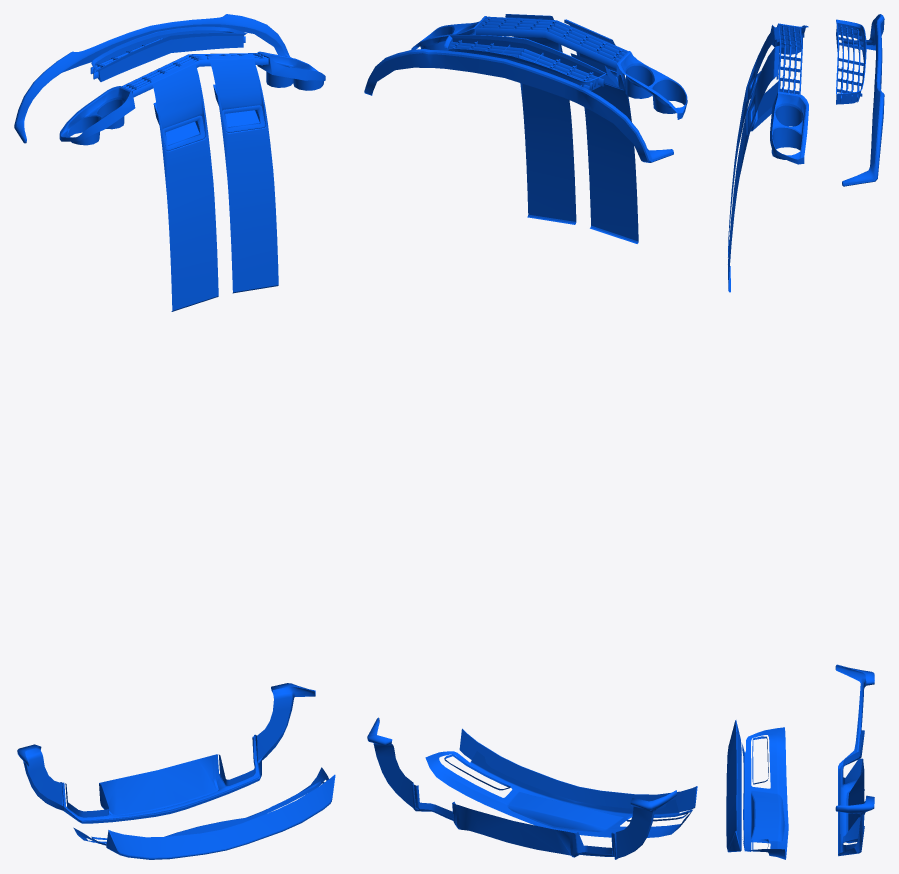
File: Mustang_Plastic_HD001.obj
The picture shows the model from 3 angles, left to right: view 1: azimuth 30°, elevation 25°; view 2: azimuth 150°, elevation 25°; view 3: azimuth 270°, elevation 25°; orthographic projection. The views are drawn at different scales.
Parts seen in each view (by area): view 1: Mustang_Plastic_HD002; view 2: Mustang_Plastic_HD002; view 3: Mustang_Plastic_HD002.
Part boxes in pixels (box(x1,y1,x2,y2)): Mustang_Plastic_HD002: box(14, 14, 335, 859); Mustang_Plastic_HD002: box(364, 14, 697, 859); Mustang_Plastic_HD002: box(726, 14, 884, 859).
Bounding box in the file's own units: 262 × 676 × 123.
